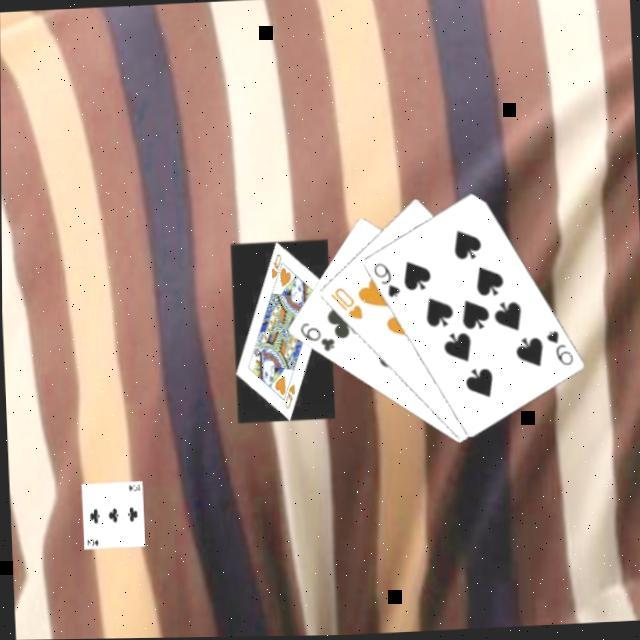10H: (325, 285, 363, 324)
6C: (294, 320, 335, 357)
9S: (368, 260, 401, 303), (541, 328, 574, 371)
